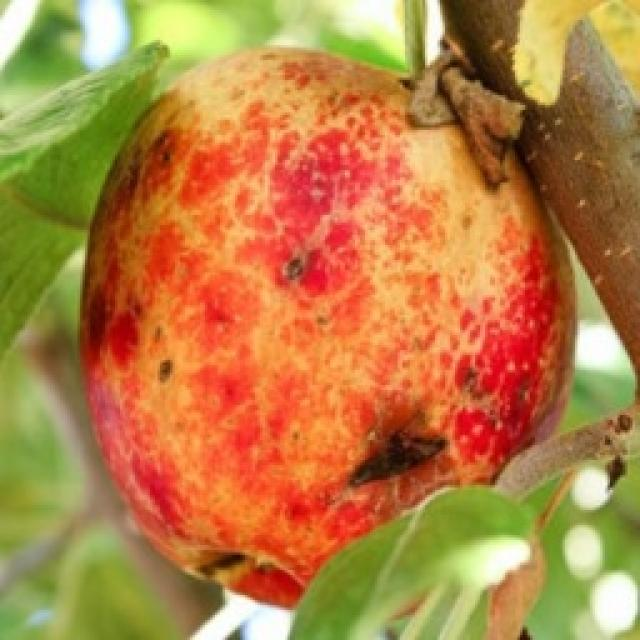defective: (75, 38, 580, 612)
